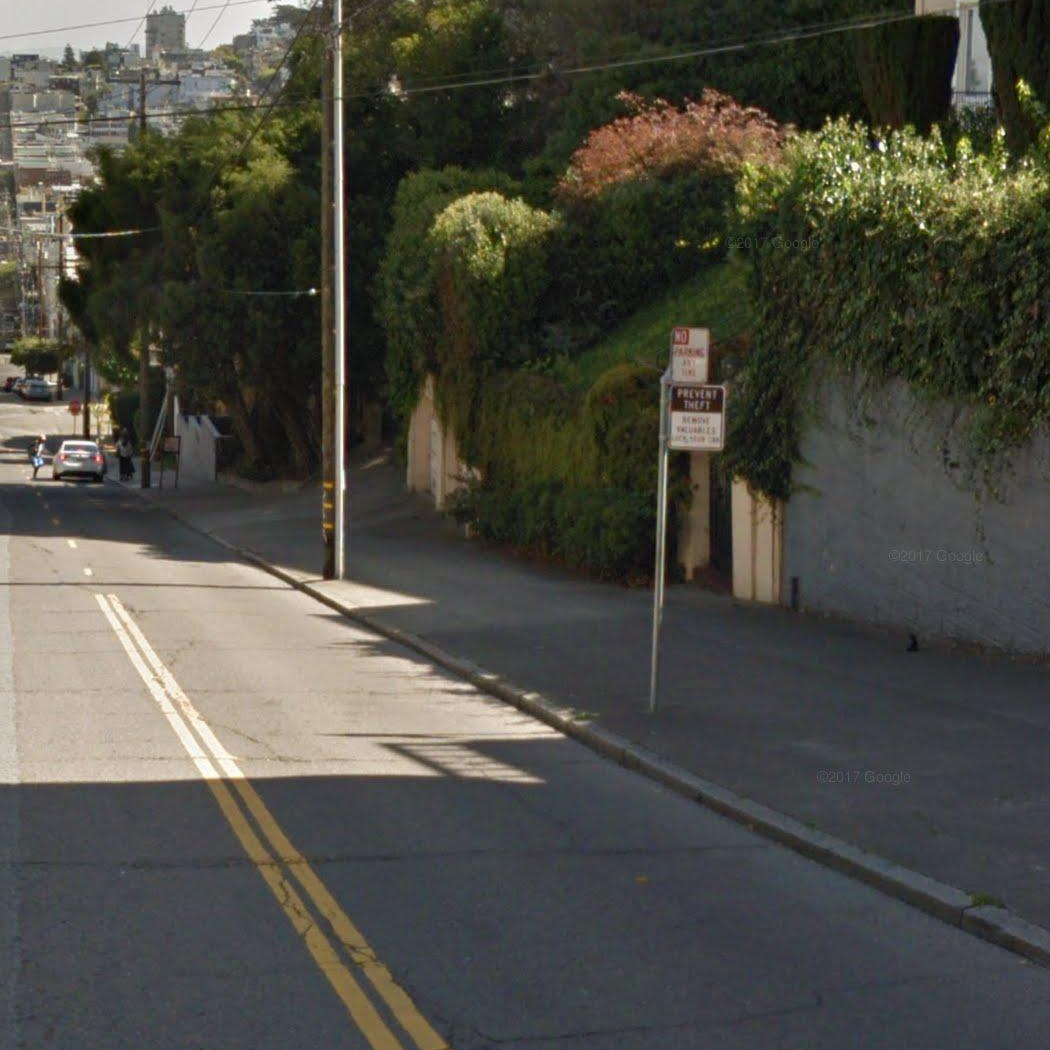No Parking Anytime: (670, 324, 713, 387)
